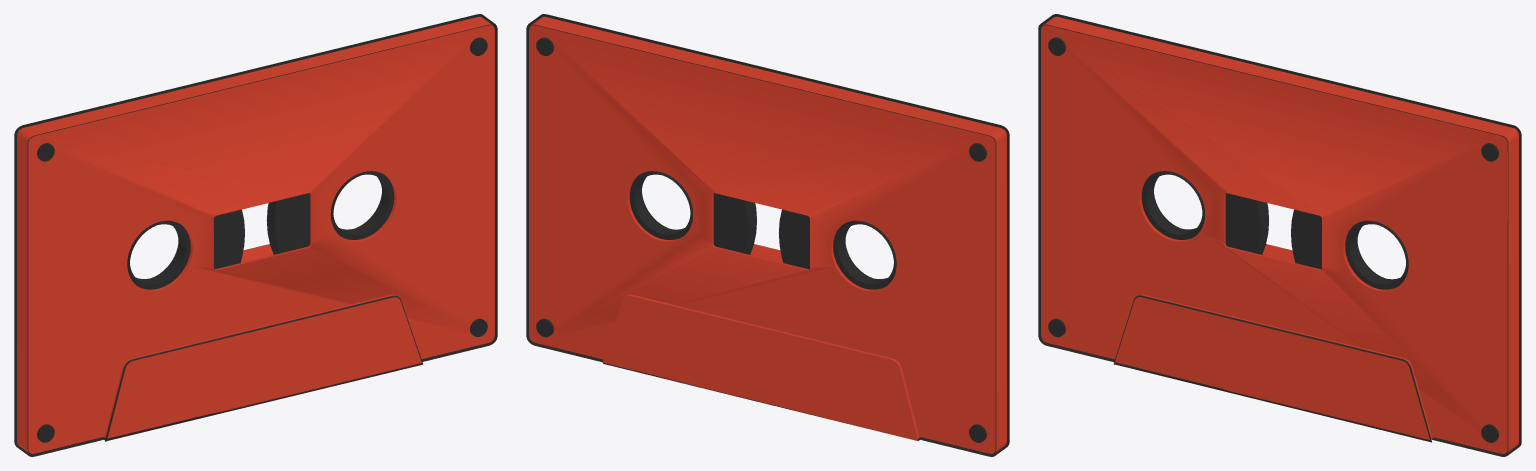
The model's file is Cassete.glb.
The picture shows the model from 3 angles, left to right: view 1: azimuth 30°, elevation 25°; view 2: azimuth 150°, elevation 25°; view 3: azimuth 330°, elevation 25°; orthographic projection.
Parts seen in each view (by area): view 1: Body; view 2: Body; view 3: Body.
Boxes of the visible parts, left/top/right/bottom form: Body: left=14, top=14, right=497, bottom=456; Body: left=526, top=14, right=1009, bottom=456; Body: left=1038, top=14, right=1521, bottom=456.
Bounding box in the file's own units: 2 × 1.31 × 0.1147.
